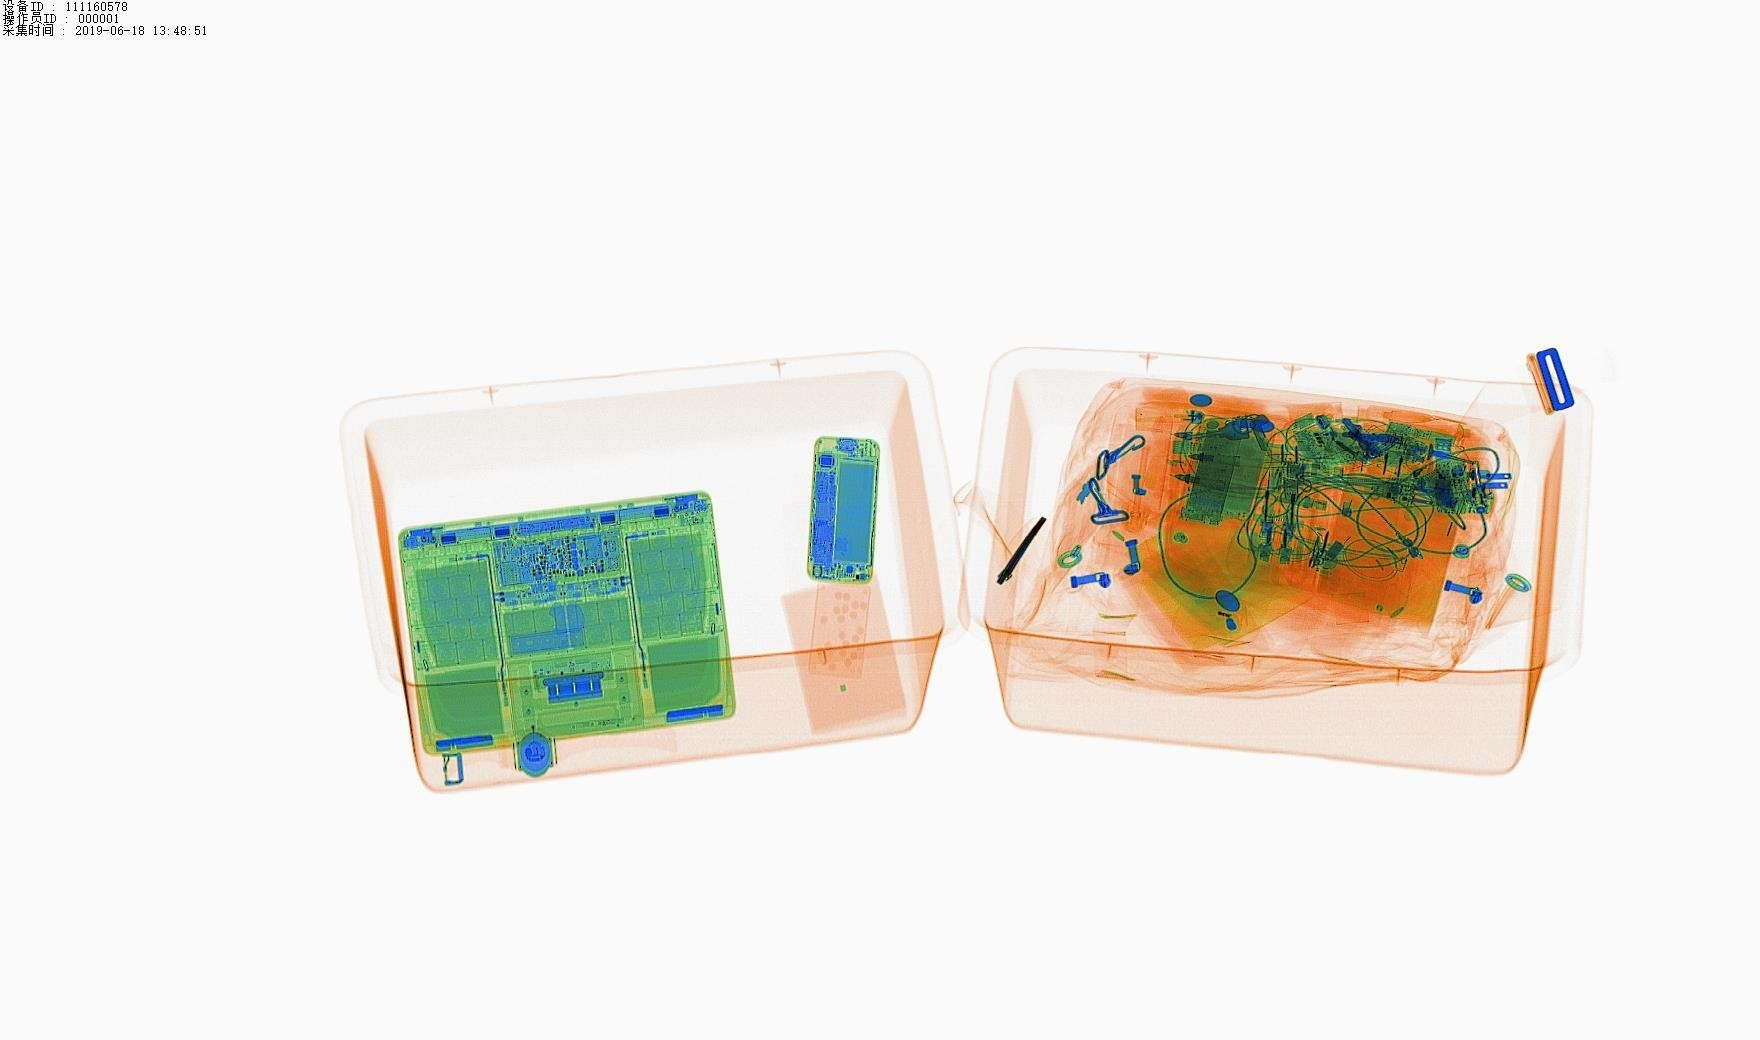NonmetallicFire: (1130, 383, 1238, 447)
